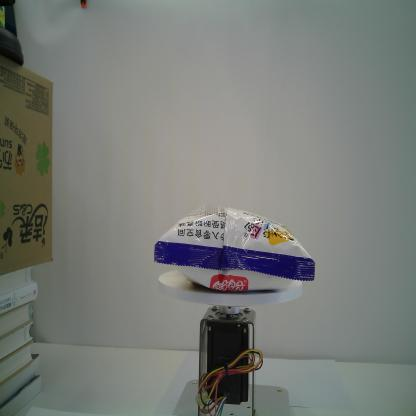Puffed Food: (152, 200, 317, 295)
